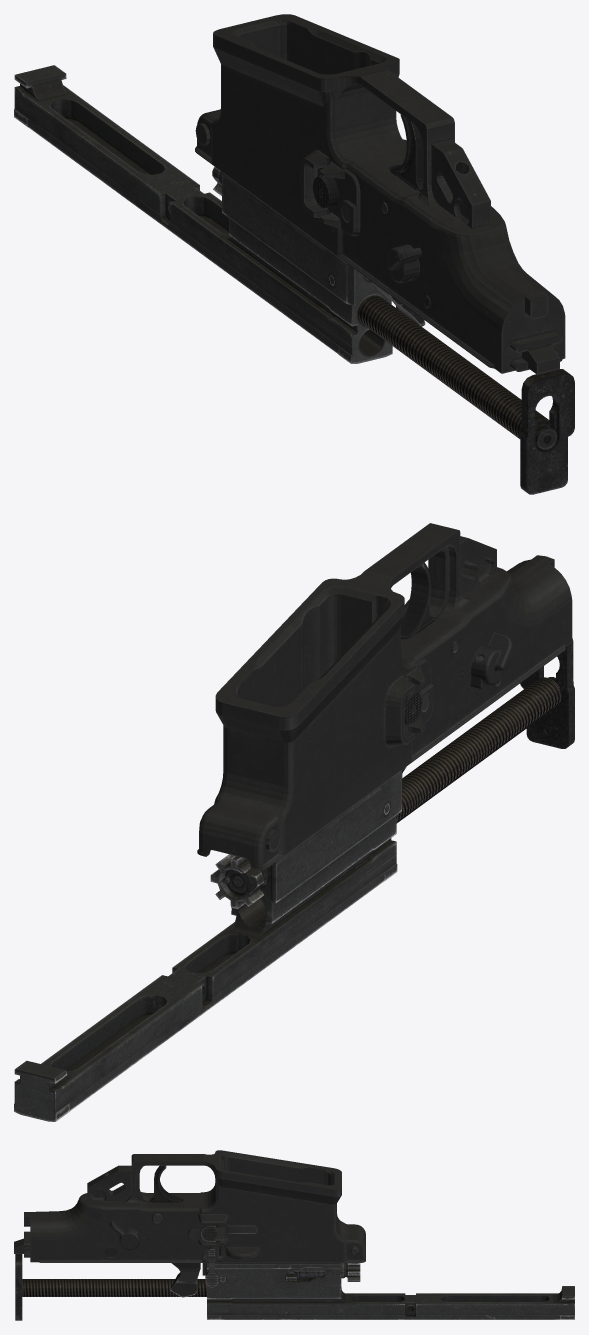
The picture shows the model from 3 angles, top to bottom: view 1: azimuth 30°, elevation 25°; view 2: azimuth 150°, elevation 25°; view 3: azimuth 270°, elevation 25°; orthographic projection. The views are drawn at different scales.
Visible parts, largest first — view 1: TW_6183afd850224f204c1da514_PZ_Import; view 2: TW_6183afd850224f204c1da514_PZ_Import; view 3: TW_6183afd850224f204c1da514_PZ_Import.
Boxes of the visible parts, box(x1,y1,x2,y2) form: TW_6183afd850224f204c1da514_PZ_Import: box(14, 14, 574, 494); TW_6183afd850224f204c1da514_PZ_Import: box(14, 523, 574, 1121); TW_6183afd850224f204c1da514_PZ_Import: box(14, 1150, 574, 1320).
Bounding box in the file's own units: 0.0295 × 0.2339 × 0.0731.
Materials: 1 (1 with a texture image).
